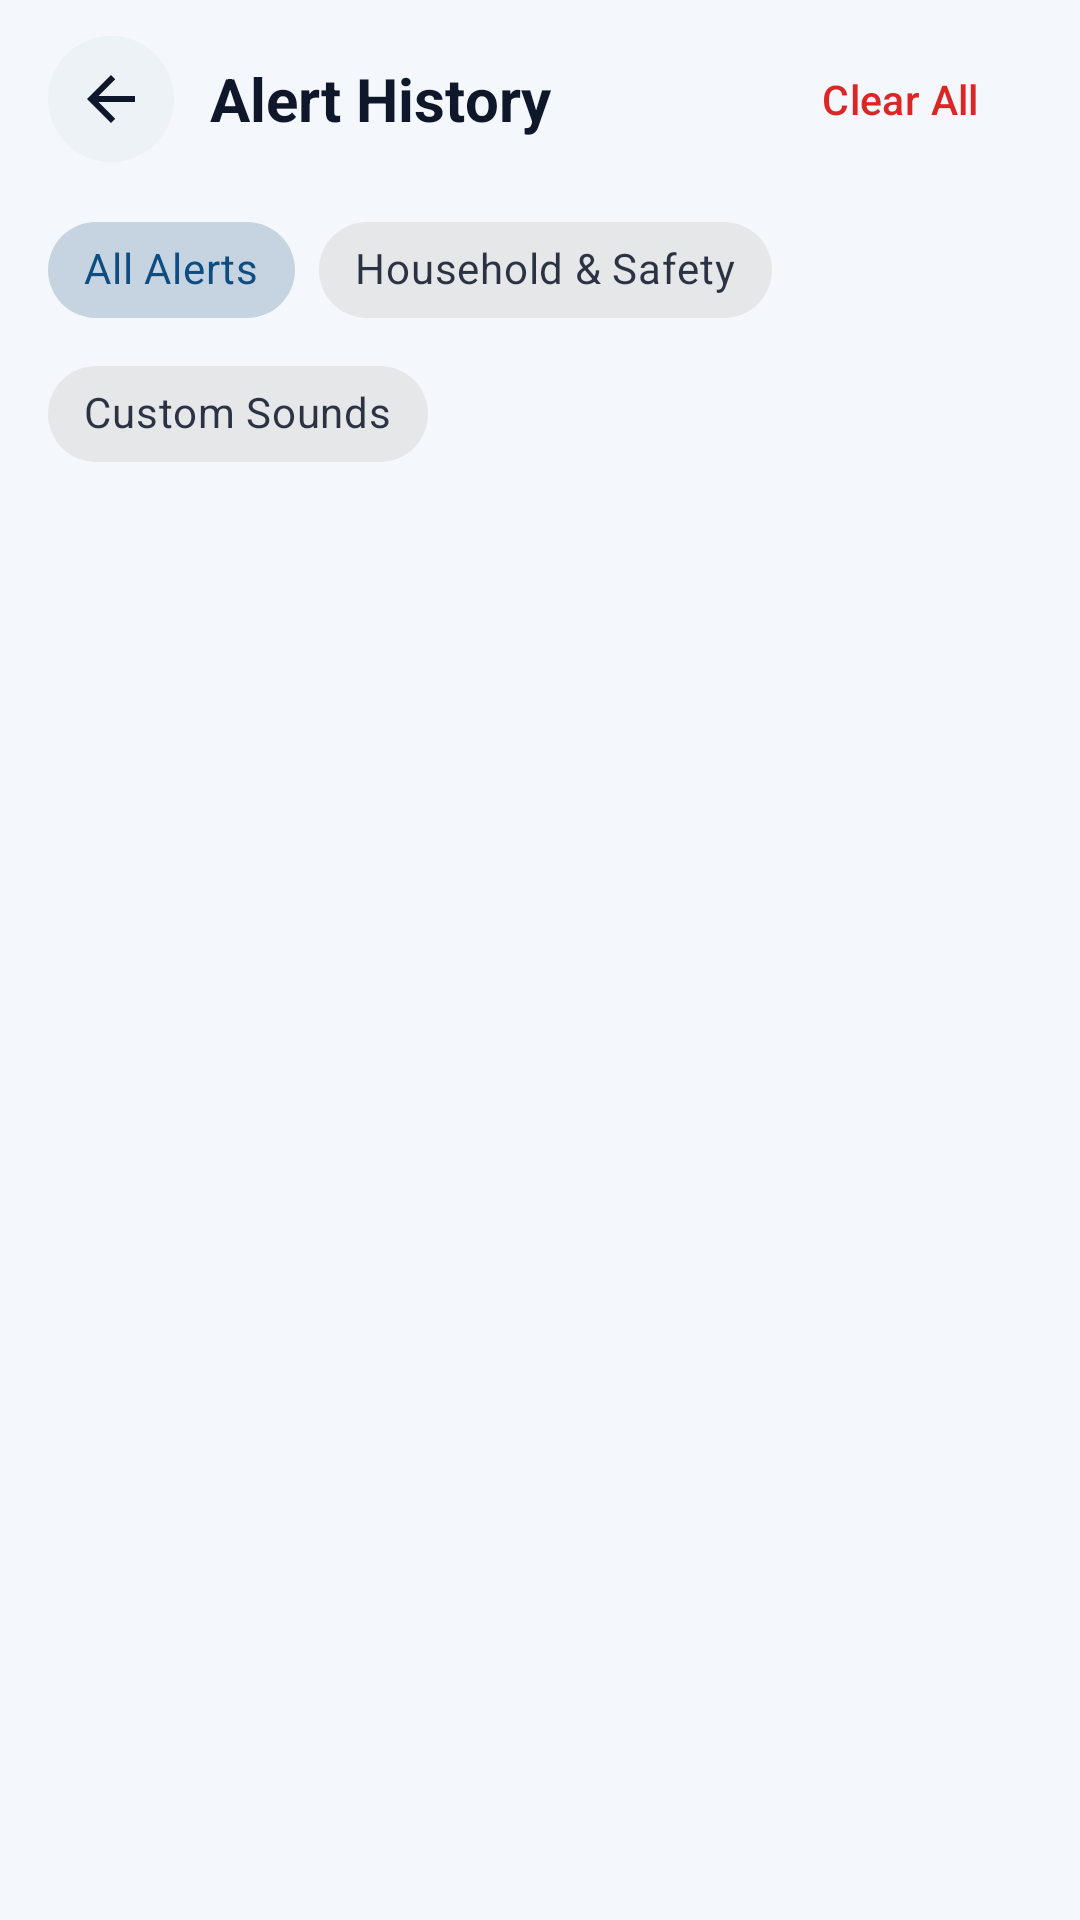

Locate icon controls on the screen. Image size 1080*1920, boxes as (x1, y1, x2, y2).
Back: (87, 75, 135, 123)
